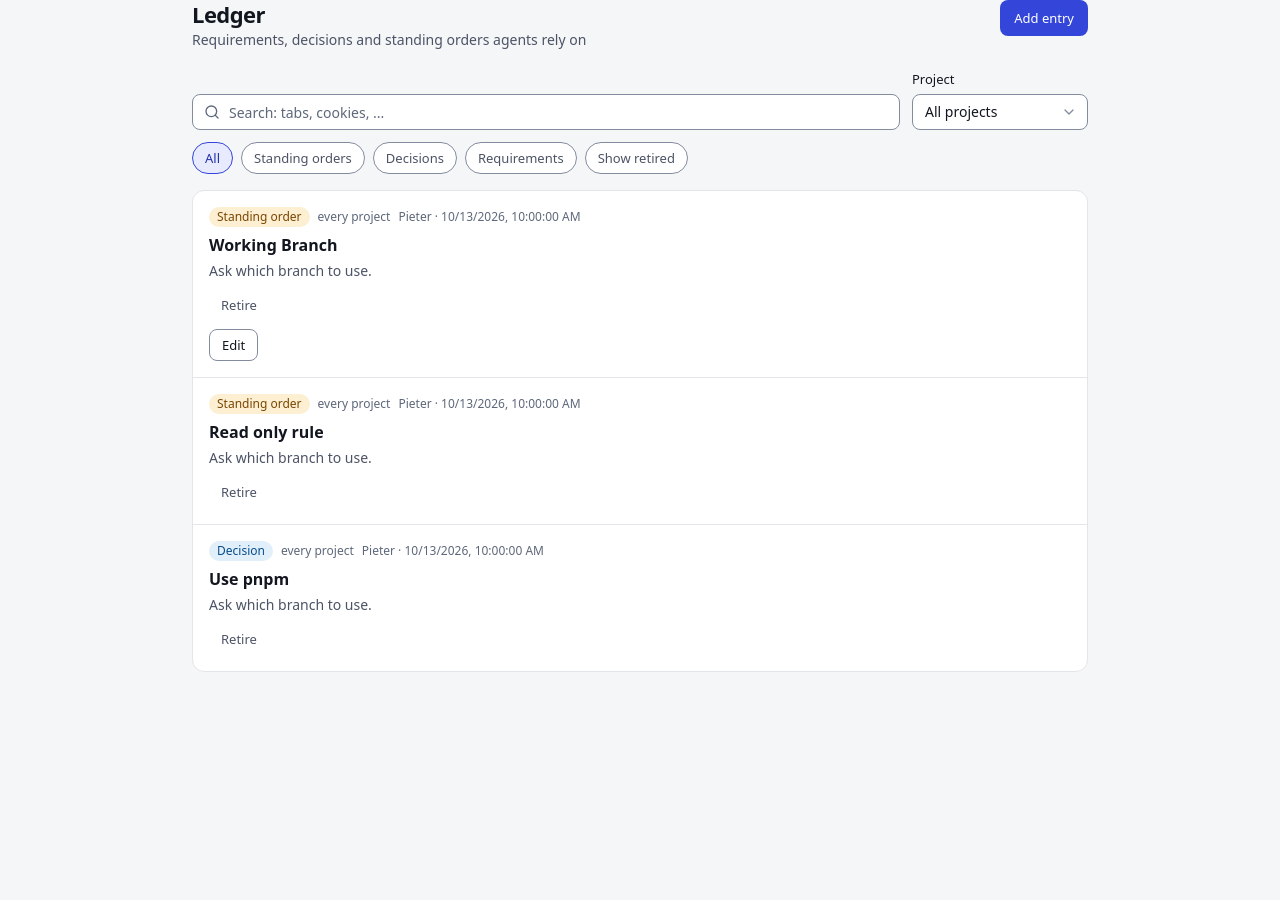
Test case: retiring a ledger entry › asks for a reason, retires the entry and lists it greyed out only when retired entries are shown
Click the button with aria-label "Retire Working Branch" at point(239, 305), box [209,289,269,321]
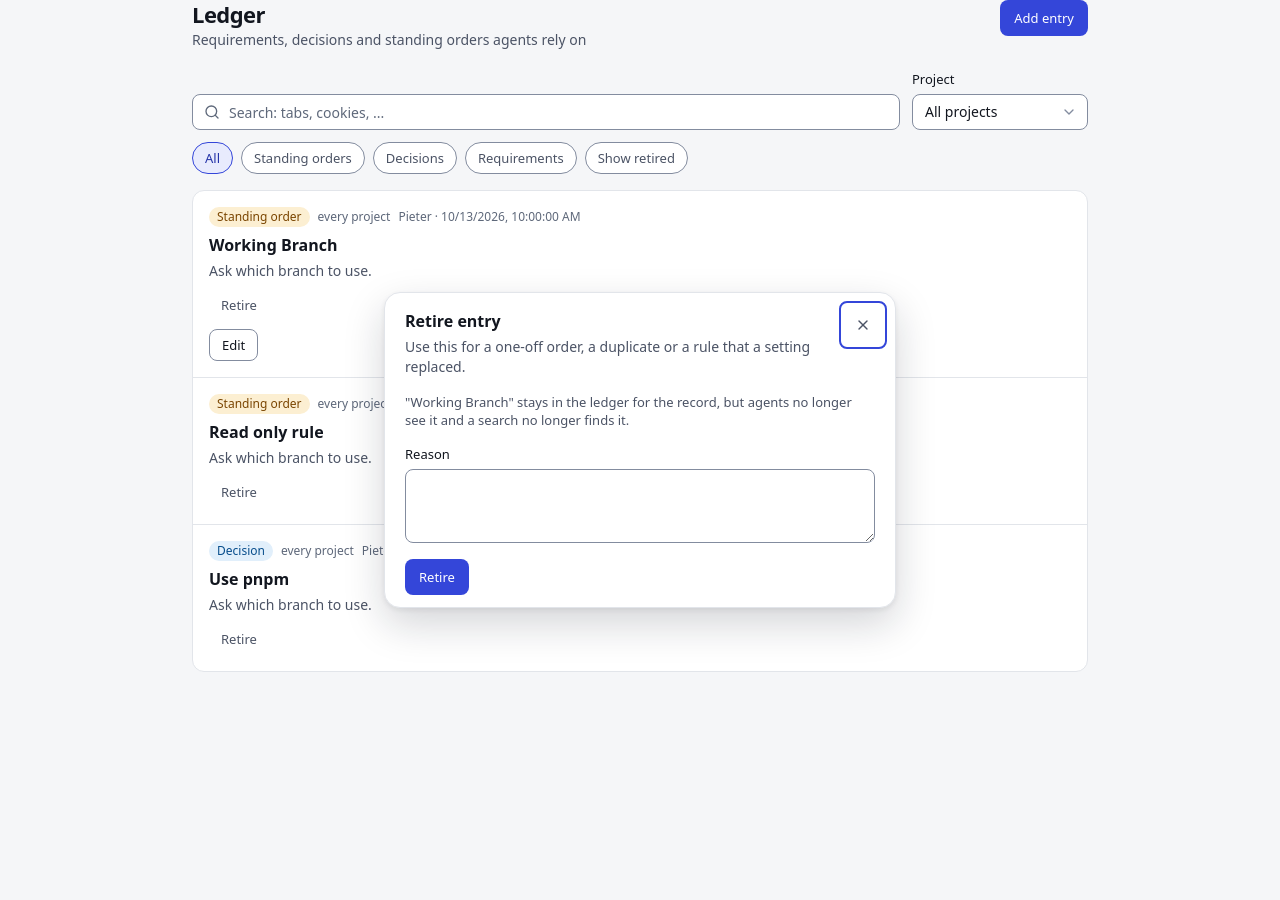
a reason is required
Click the button "Retire" at point(437, 577), box [405,559,469,595]
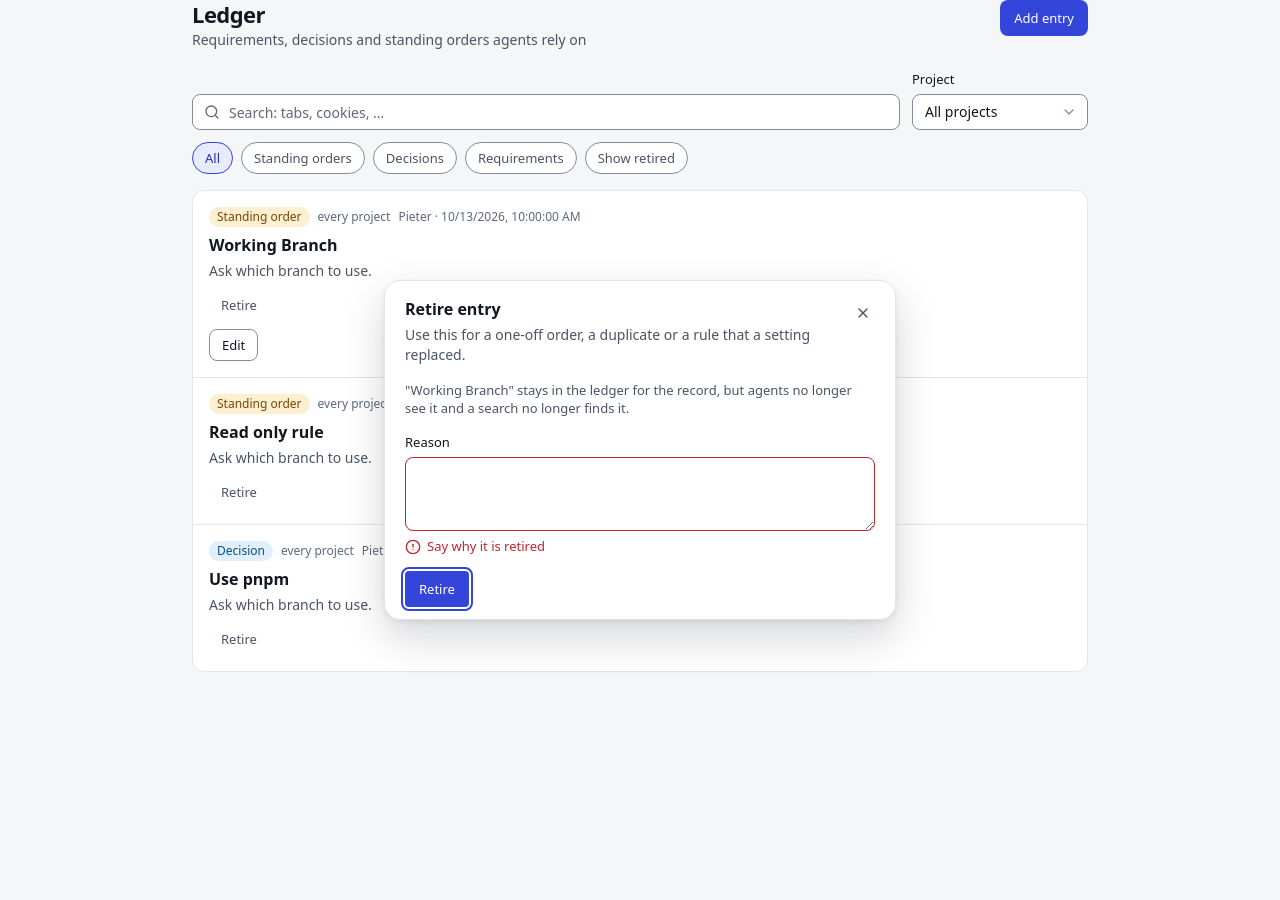
expect the text "Say why it is retired" is shown: met, box [405,537,545,555]
Type "one-off order" into the text box labelled "Reason" at point(640, 494), box [405,457,875,531]
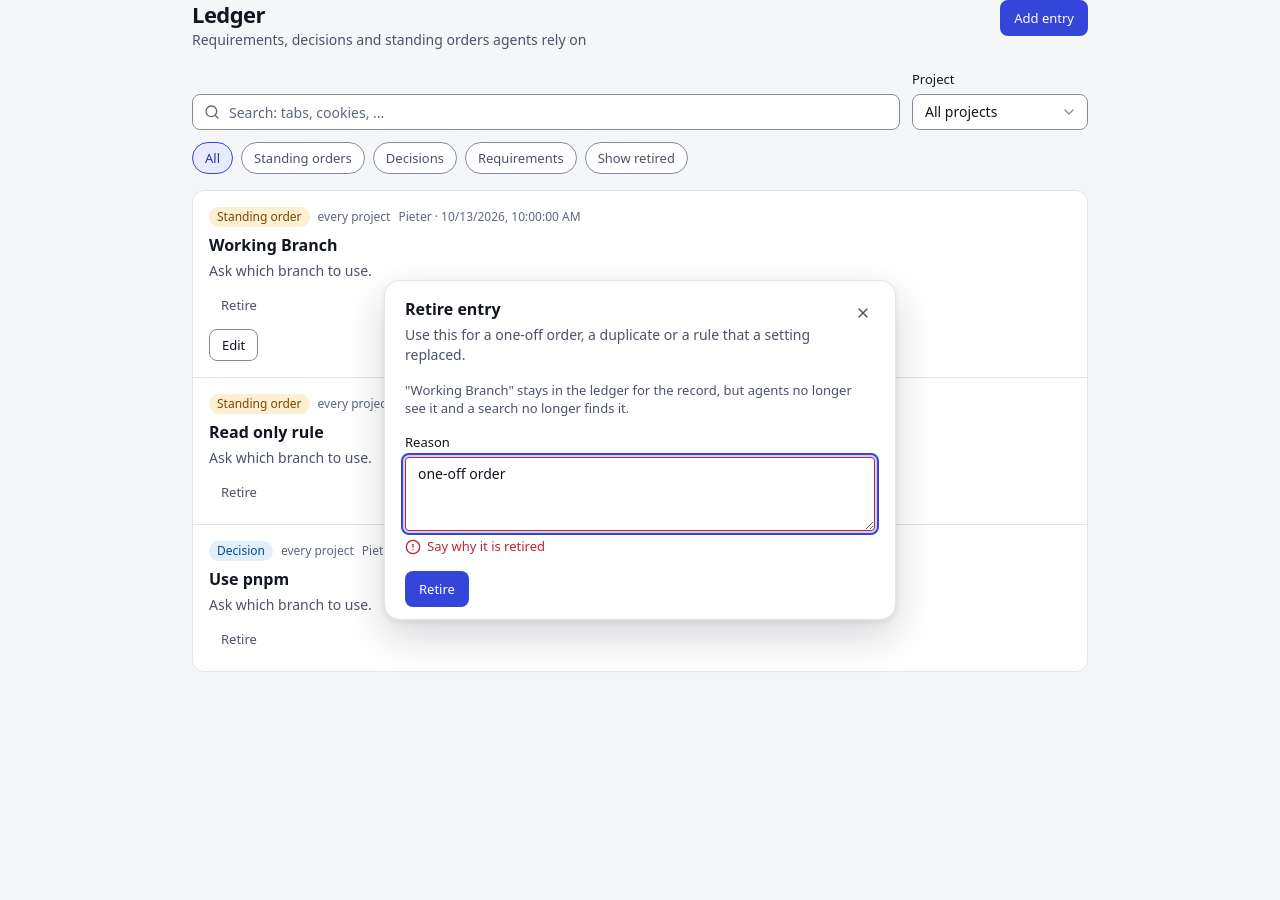
Click the button "Retire" at point(437, 589), box [405,571,469,607]
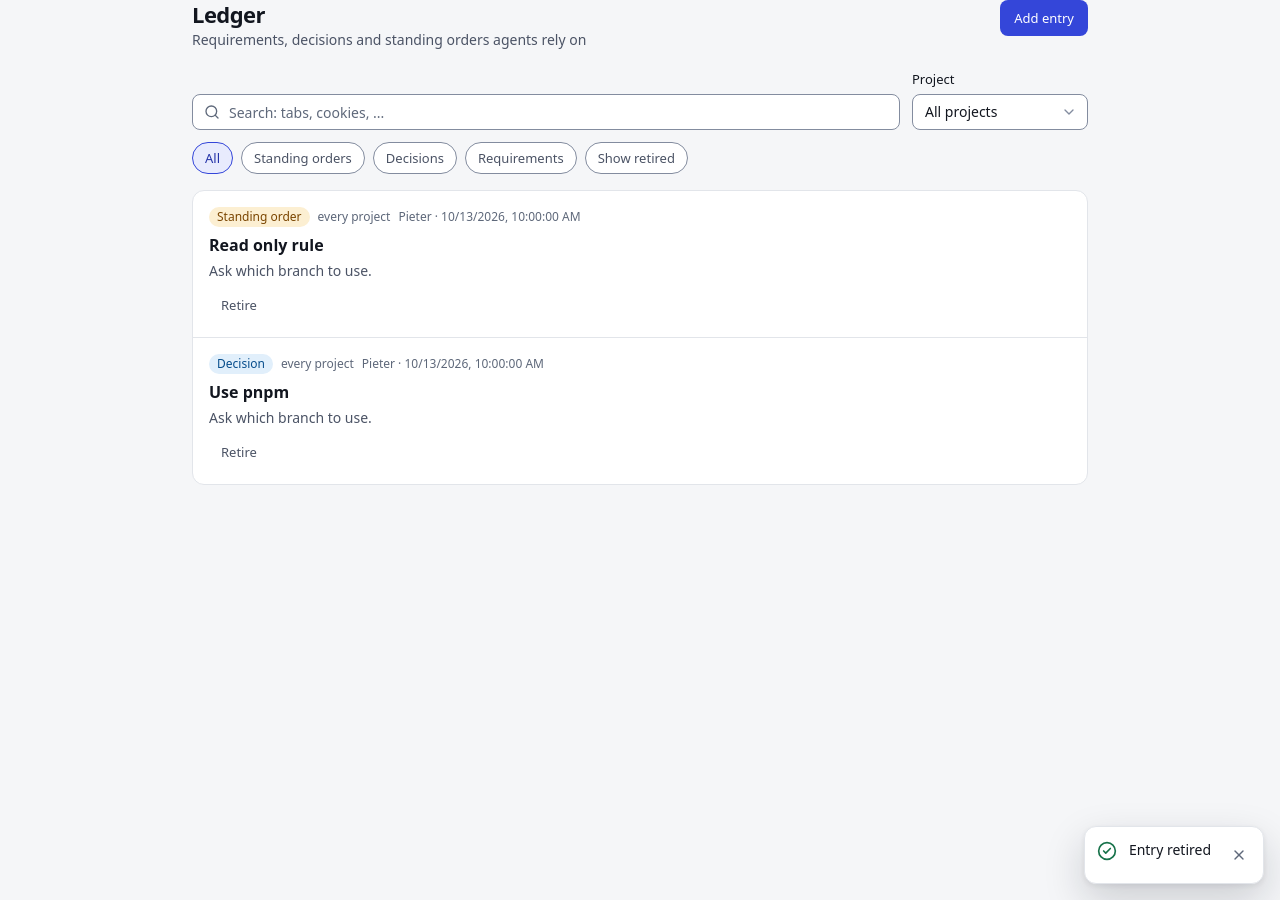
expect the heading "Working Branch" is gone: met
and come back, greyed out with the reason, behind the filter
Click the button "Show retired" at point(636, 158), box [585,142,688,174]
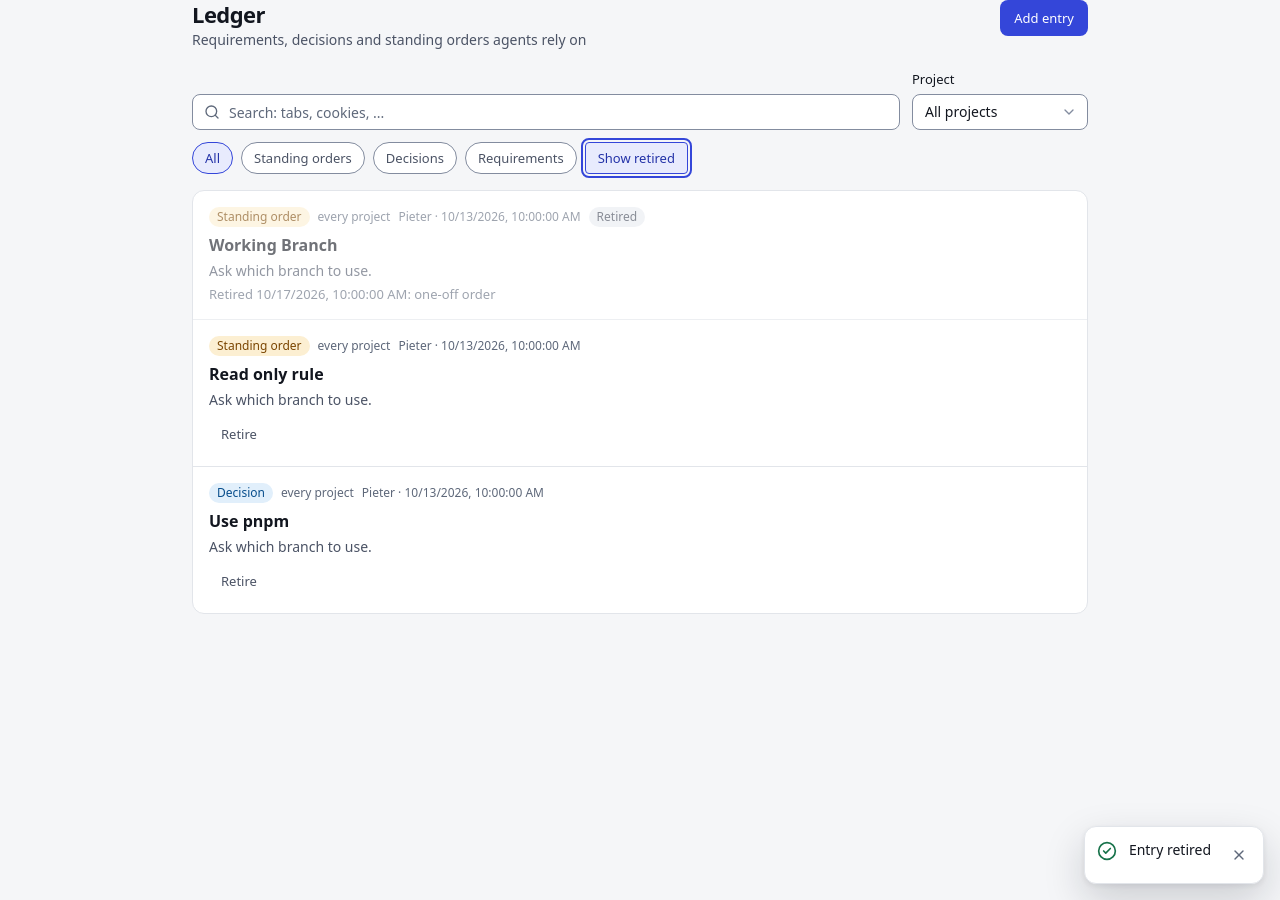
expect the 1st list item with test id "ledger-entry" is shown: met, box [193,191,1087,320]
expect the text "Retired" is shown: met, box [597,209,637,225]
expect the text with test id "ledger-retired-reason" shows "one-off order": met, box [414,285,496,303]
